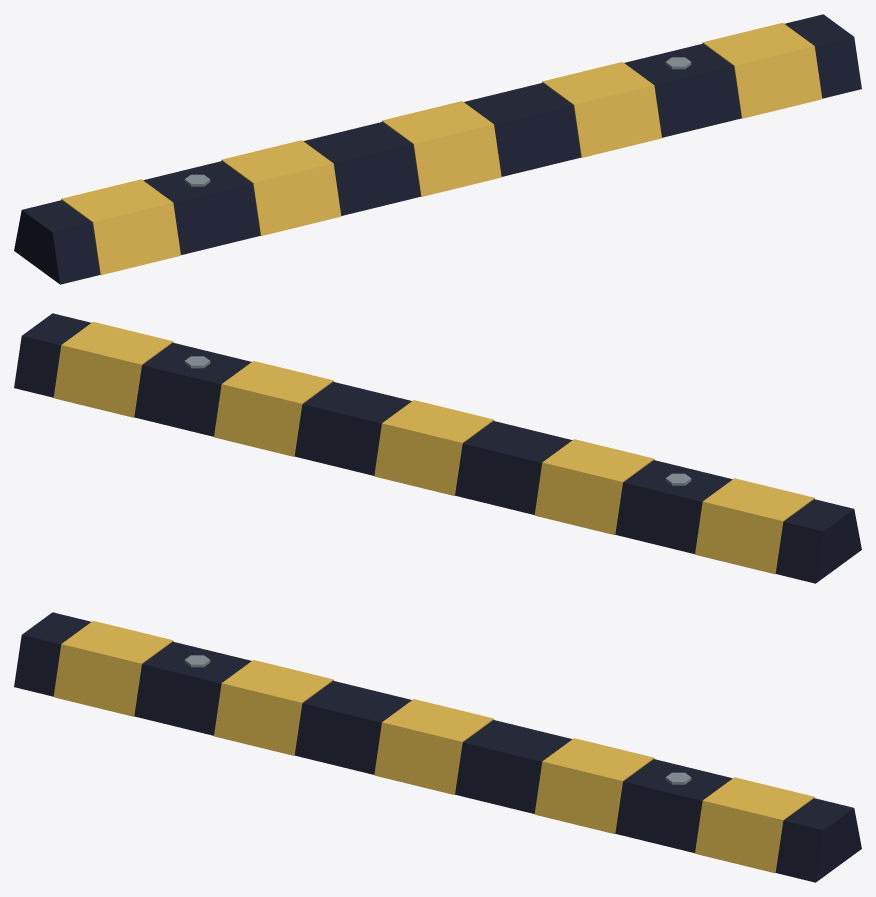
File: sm_env_depot_wheel_stop.glb
3 renders of one model, top to bottom at view 1: azimuth 30°, elevation 25°; view 2: azimuth 150°, elevation 25°; view 3: azimuth 330°, elevation 25°, orthographic.
Visible parts, largest first — view 1: Stop, StopStripe.001, StopStripe.002, StopStripe.004, StopStripe, StopStripe.003; view 2: Stop, StopStripe.001, StopStripe.002, StopStripe.004, StopStripe, StopStripe.003; view 3: Stop, StopStripe.002, StopStripe.003, StopStripe, StopStripe.001, StopStripe.004.
Boxes of the visible parts, x1,y1,x2,y2 form: Stop: (14,14,861,284); StopStripe.001: (221,140,341,235); StopStripe.002: (381,101,501,196); StopStripe.004: (702,22,822,118); StopStripe: (61,179,180,275); StopStripe.003: (542,62,661,157); Stop: (14,313,861,583); StopStripe.001: (534,439,654,534); StopStripe.002: (374,400,494,495); StopStripe.004: (53,321,173,417); StopStripe: (695,478,814,574); StopStripe.003: (214,361,333,456); Stop: (14,612,861,882); StopStripe.002: (374,699,494,794); StopStripe.003: (534,738,654,833); StopStripe: (53,620,173,716); StopStripe.001: (214,660,333,755); StopStripe.004: (695,777,814,873).
Size of the model in its own units: 1.8 by 0.106 by 0.184.
